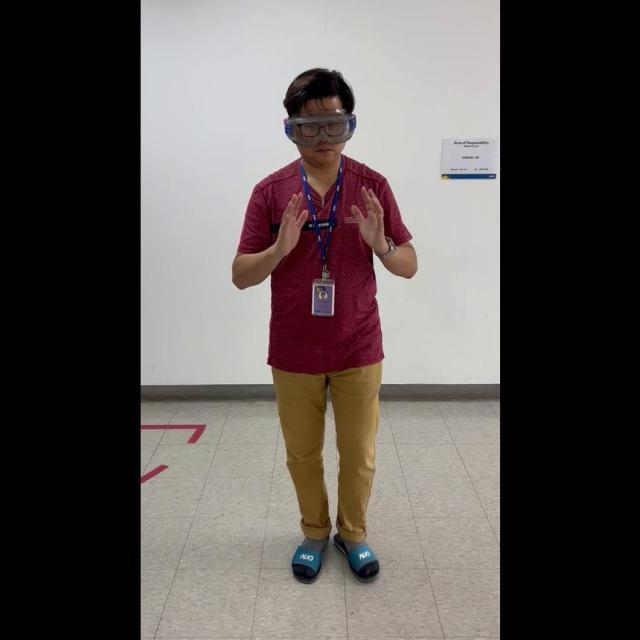bare_hand: (348, 177, 391, 256), (269, 188, 312, 257)
